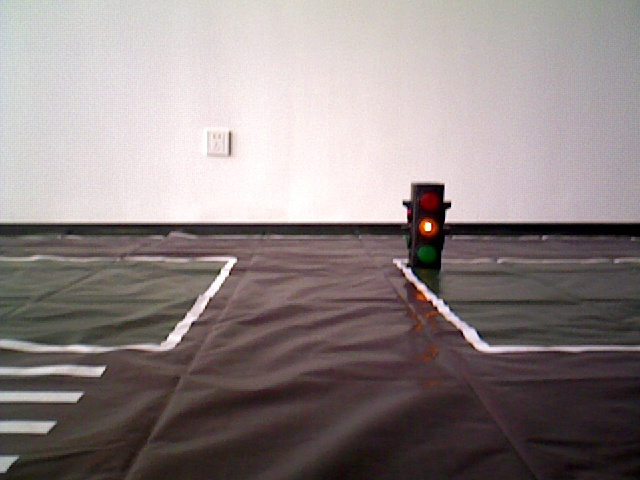yellow: (408, 183, 451, 271)
